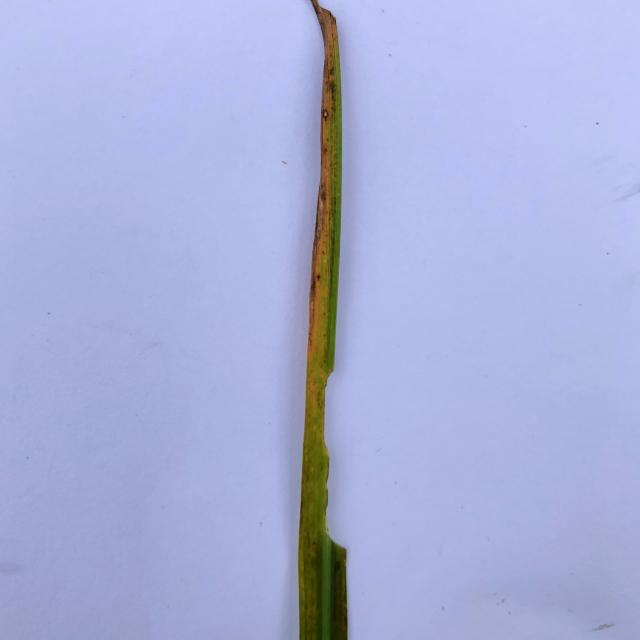tungro: (313, 2, 336, 640)
